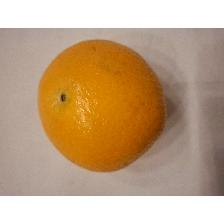Orange: (36, 39, 168, 175)
